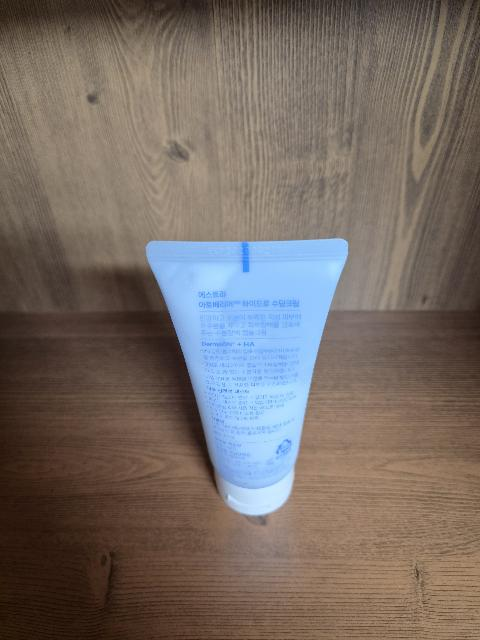handcream: (146, 238, 348, 515)
